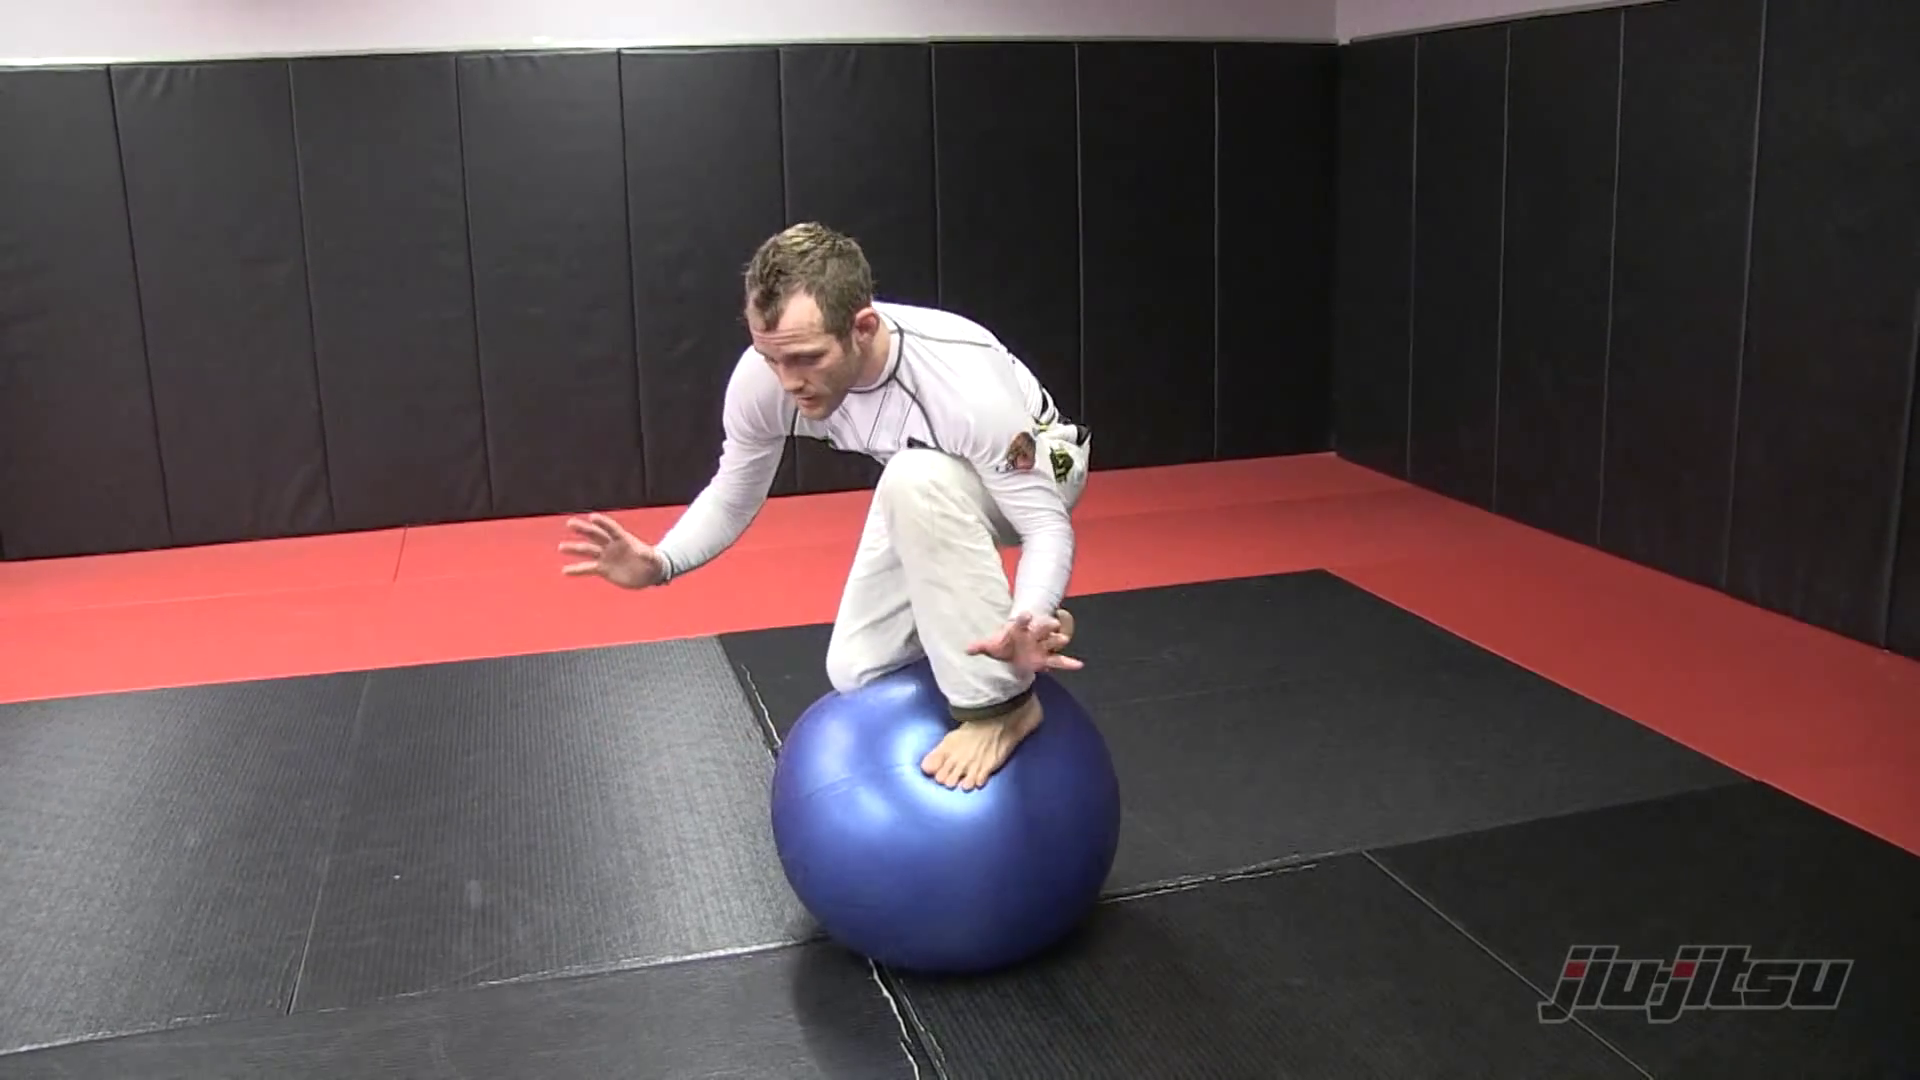yogaball: (741, 649, 1127, 997)
